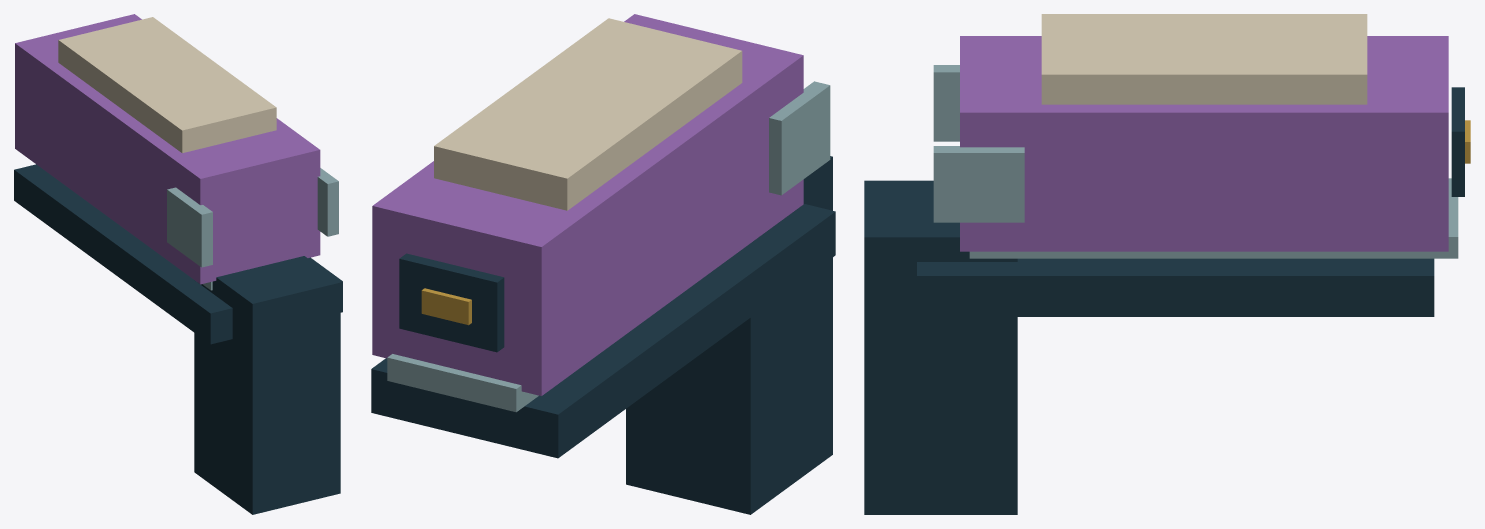
Rendered from pistol.gltf.
3 renders of one model, left to right at view 1: azimuth 30°, elevation 25°; view 2: azimuth 150°, elevation 25°; view 3: azimuth 270°, elevation 25°, orthographic. The views are drawn at different scales.
Visible parts, largest first — view 1: pistol; view 2: pistol; view 3: pistol.
Part boxes in pixels (x1,y1,x2,y2): pistol: [14, 14, 342, 514]; pistol: [371, 14, 835, 514]; pistol: [864, 14, 1470, 514].
Bounding box in the file's own units: 0.218 × 0.5095 × 0.633.
